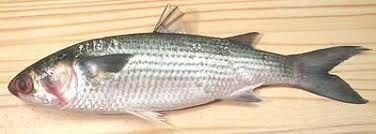Mullet: (9, 3, 373, 129)
